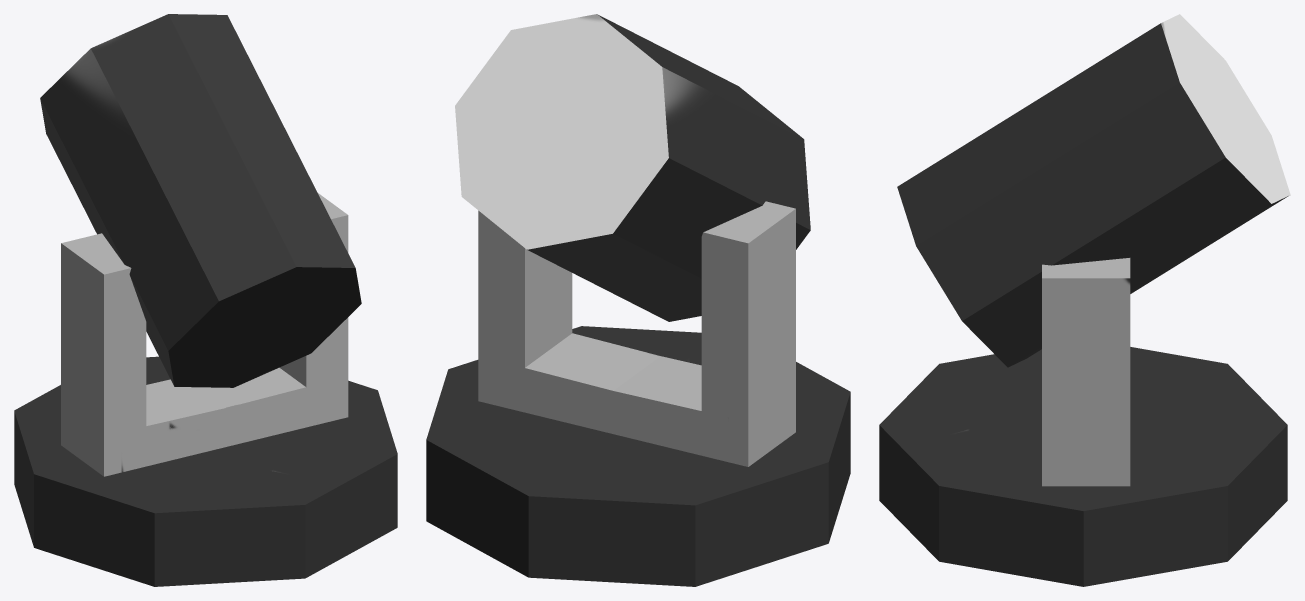
The model's file is LuzEsc.obj.
3 renders of one model, left to right at view 1: azimuth 30°, elevation 25°; view 2: azimuth 150°, elevation 25°; view 3: azimuth 270°, elevation 25°, orthographic. The views are drawn at different scales.
Visible parts, largest first — view 1: luzEsc; view 2: luzEsc; view 3: luzEsc.
Part boxes in pixels (<box>): luzEsc: <box>14,14,397,586</box>; luzEsc: <box>426,14,850,586</box>; luzEsc: <box>879,14,1290,586</box>.
Bounding box in the file's own units: 2.8 × 3.61 × 2.82.
Materials: 1 (1 with a texture image).
